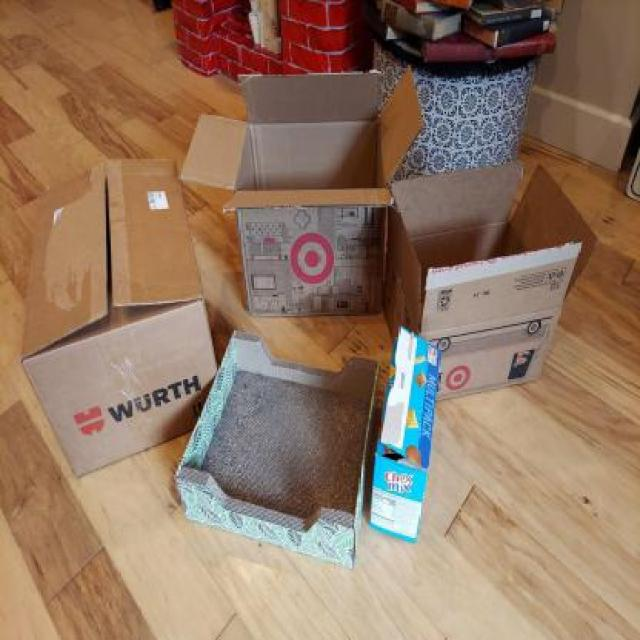box: (16, 159, 227, 496), (176, 61, 429, 331), (379, 152, 606, 428), (146, 320, 389, 570), (361, 326, 452, 551)
